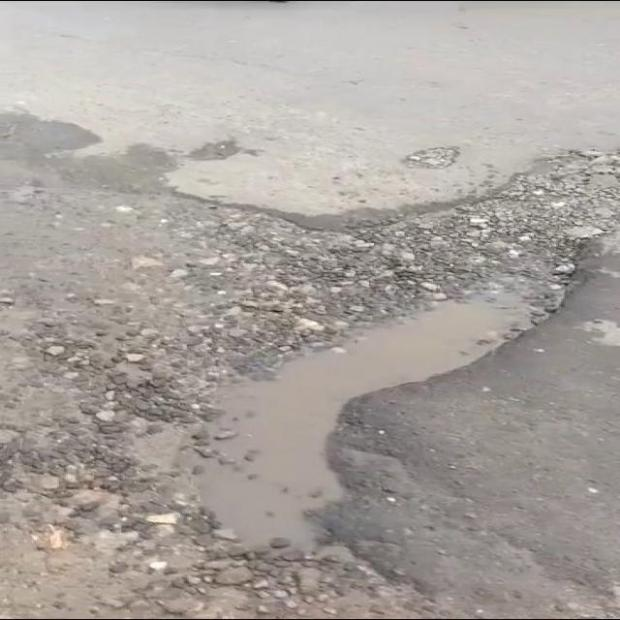lubang: (0, 151, 619, 546), (403, 146, 460, 169)
